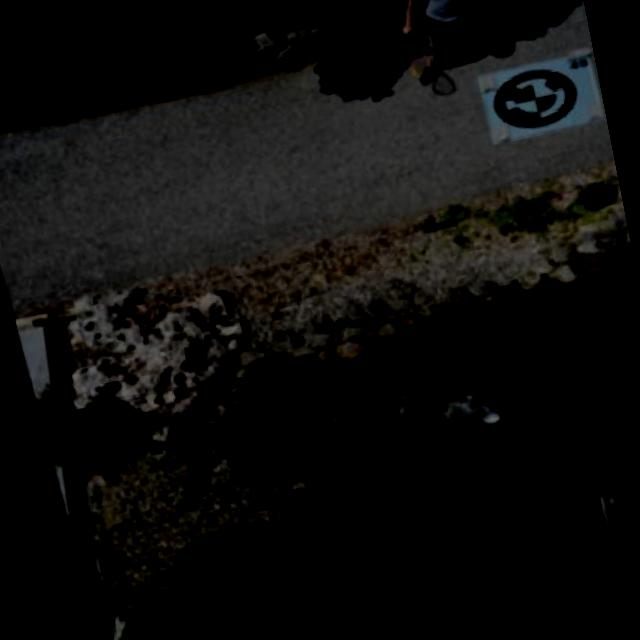Person: (387, 0, 515, 98)
